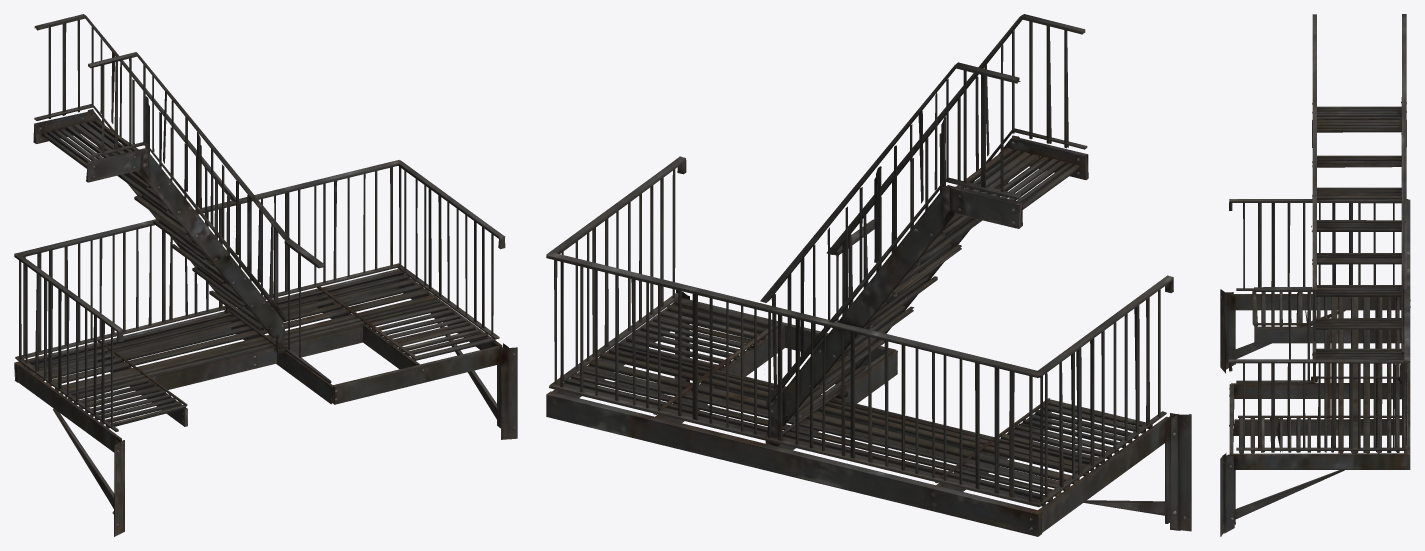
The model's file is fire_escape_smart_top.glb.
3 views of the same model, side by side, from view 1: azimuth 30°, elevation 25°; view 2: azimuth 150°, elevation 25°; view 3: azimuth 270°, elevation 25° (orthographic). The views are drawn at different scales.
Visible parts, largest first — view 1: geometry_0; view 2: geometry_0; view 3: geometry_0.
Boxes of the visible parts, left/top/right/bottom form: geometry_0: left=14, top=14, right=517, bottom=536; geometry_0: left=546, top=14, right=1191, bottom=536; geometry_0: left=1220, top=14, right=1410, bottom=536.
Bounding box in the file's own units: 3.18 × 3.2 × 1.51.
1 material, 1 textured.
